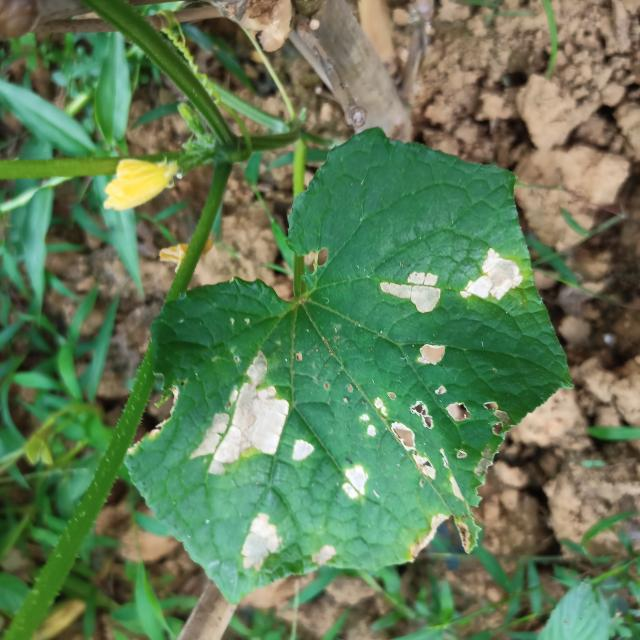disease_cucumber: (195, 357, 292, 477), (353, 389, 442, 484), (458, 245, 523, 310), (376, 265, 443, 318), (230, 510, 284, 570), (335, 459, 372, 503), (291, 434, 315, 469), (310, 542, 338, 568)
